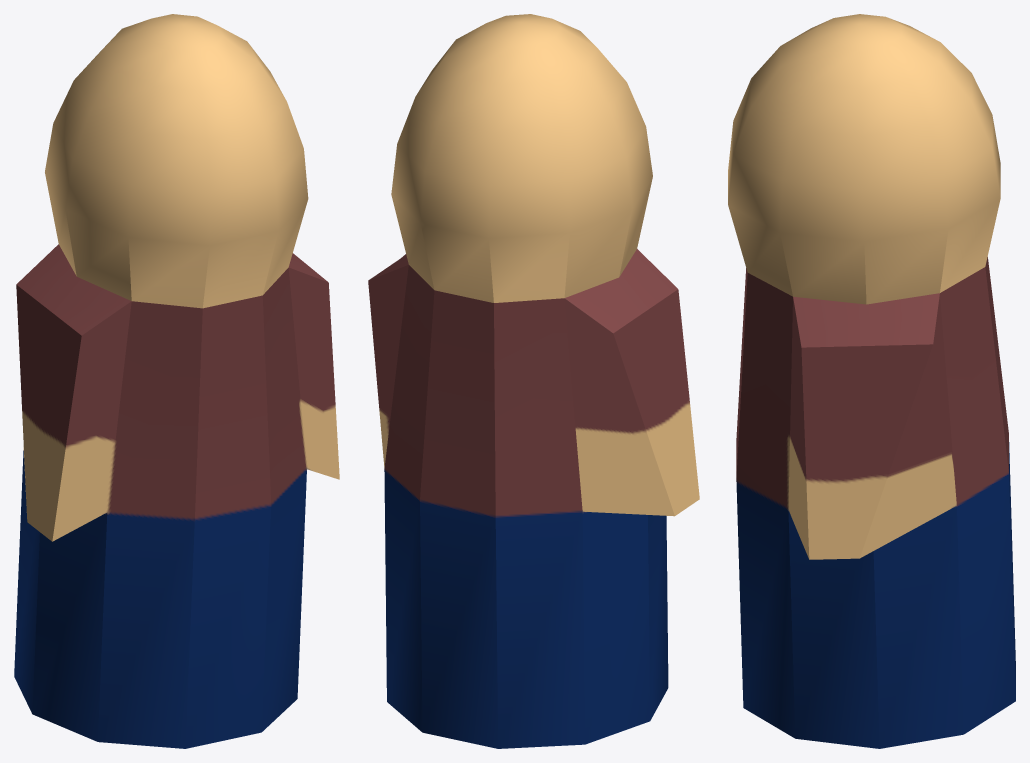
File: customer_animation.fbx
3 views of the same model, side by side, from view 1: azimuth 30°, elevation 25°; view 2: azimuth 150°, elevation 25°; view 3: azimuth 270°, elevation 25° (orthographic).
Visible parts, largest first — view 1: customer; view 2: customer; view 3: customer.
Part boxes in pixels (box(x1,y1,x2,y2)): customer: box(14, 14, 339, 748); customer: box(368, 14, 699, 748); customer: box(728, 14, 1015, 748).
Bounding box in the file's own units: 1.26 × 2.81 × 1.08.
